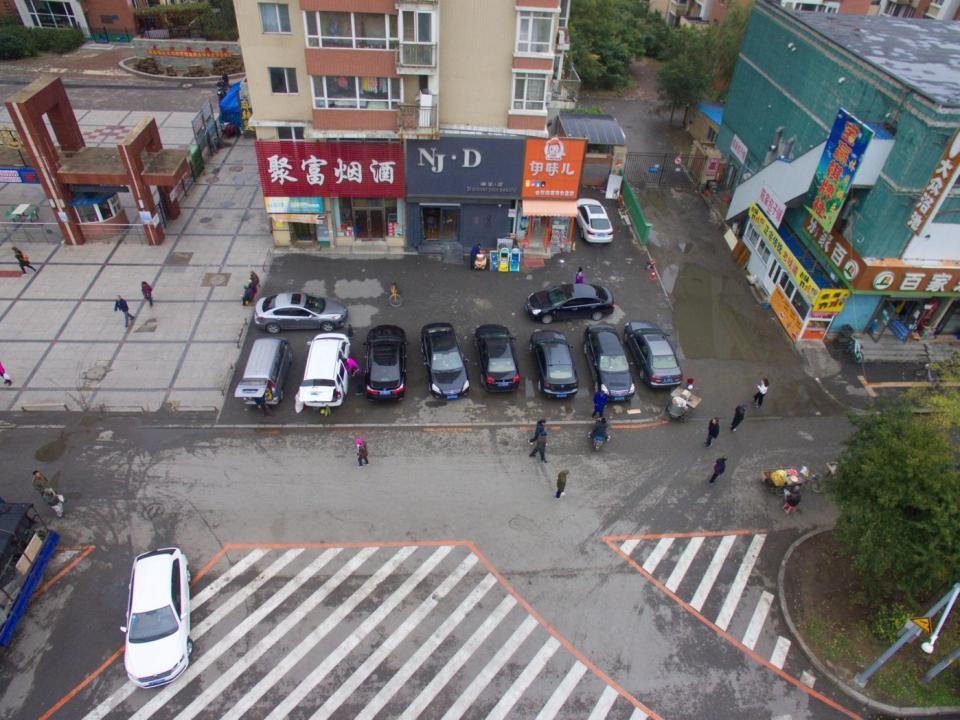car: (120, 547, 195, 690), (583, 323, 634, 403), (625, 318, 682, 389), (419, 323, 470, 402), (254, 292, 348, 333), (528, 330, 580, 400), (361, 324, 407, 403), (525, 285, 615, 323), (473, 325, 519, 393), (570, 196, 614, 249)
truck: (0, 496, 58, 662)
van: (234, 337, 293, 410), (299, 332, 352, 410)
